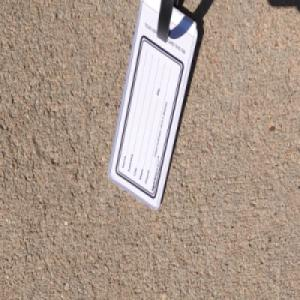LuggageTag: (105, 0, 197, 213)
